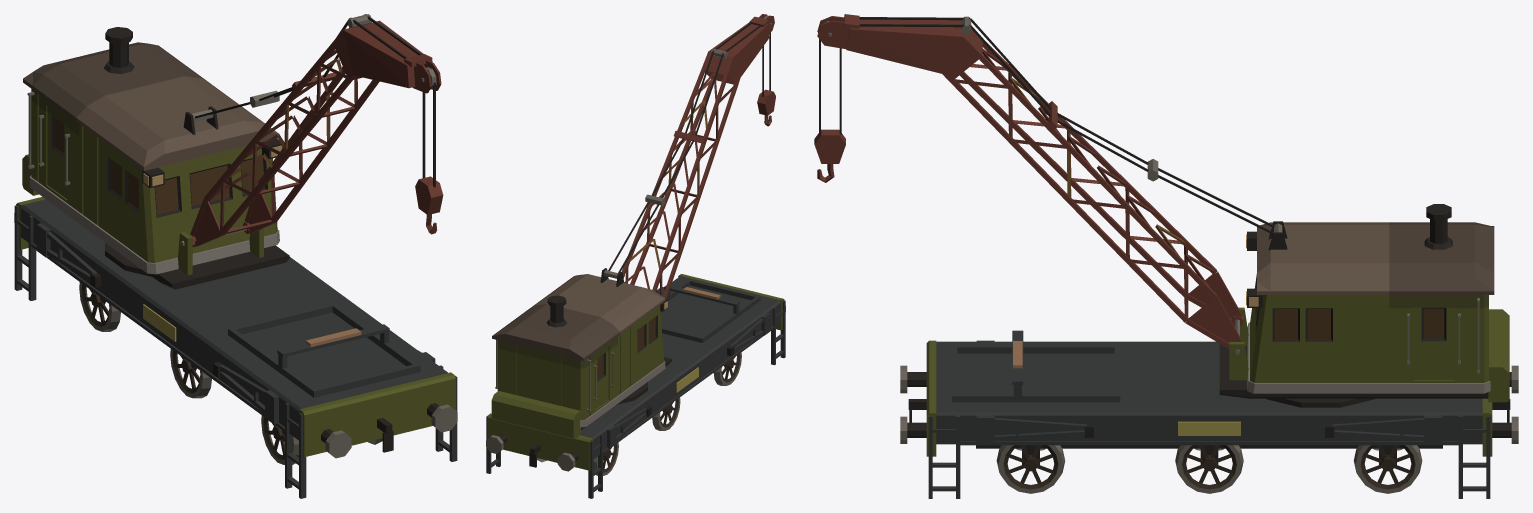
Rendered from breakdown-crane-6a67d9.glb.
3 views of the same model, side by side, from view 1: azimuth 30°, elevation 25°; view 2: azimuth 150°, elevation 25°; view 3: azimuth 270°, elevation 25° (orthographic). The views are drawn at different scales.
Visible parts, largest first — view 1: frame, superstructure, jib-lattice, wheel-2-set, wheel-3-set, block-and-hook, wheel-1-set, falls; view 2: superstructure, frame, jib-lattice, wheel-2-set, wheel-1-set, block-and-hook, luff-rope-tail, wheel-3-set, luff-rope; view 3: frame, superstructure, jib-lattice, wheel-1-set, wheel-2-set, wheel-3-set, block-and-hook, luff-rope-tail, luff-rope.
Boxes of the visible parts, bbox=[...] form: frame: bbox=[14, 197, 457, 498]; superstructure: bbox=[22, 27, 289, 289]; jib-lattice: bbox=[190, 14, 441, 247]; wheel-2-set: bbox=[170, 349, 211, 398]; wheel-3-set: bbox=[79, 282, 120, 331]; block-and-hook: bbox=[415, 176, 443, 234]; wheel-1-set: bbox=[261, 415, 382, 464]; falls: bbox=[422, 82, 435, 187]; superstructure: bbox=[491, 268, 672, 439]; frame: bbox=[486, 274, 785, 498]; jib-lattice: bbox=[621, 14, 774, 313]; wheel-2-set: bbox=[652, 397, 680, 430]; wheel-1-set: bbox=[713, 352, 741, 385]; block-and-hook: bbox=[757, 89, 775, 126]; luff-rope-tail: bbox=[645, 137, 693, 205]; wheel-3-set: bbox=[537, 442, 618, 475]; luff-rope: bbox=[608, 201, 658, 273]; frame: bbox=[900, 330, 1518, 498]; superstructure: bbox=[1219, 204, 1509, 407]; jib-lattice: bbox=[817, 14, 1243, 348]; wheel-1-set: bbox=[996, 445, 1065, 493]; wheel-2-set: bbox=[1175, 445, 1243, 493]; wheel-3-set: bbox=[1353, 445, 1422, 493]; block-and-hook: bbox=[814, 129, 845, 182]; luff-rope-tail: bbox=[1057, 112, 1158, 181]; luff-rope: bbox=[1158, 168, 1274, 234].
Size of the model in its own units: 2.7 by 7.29 by 10.25.
